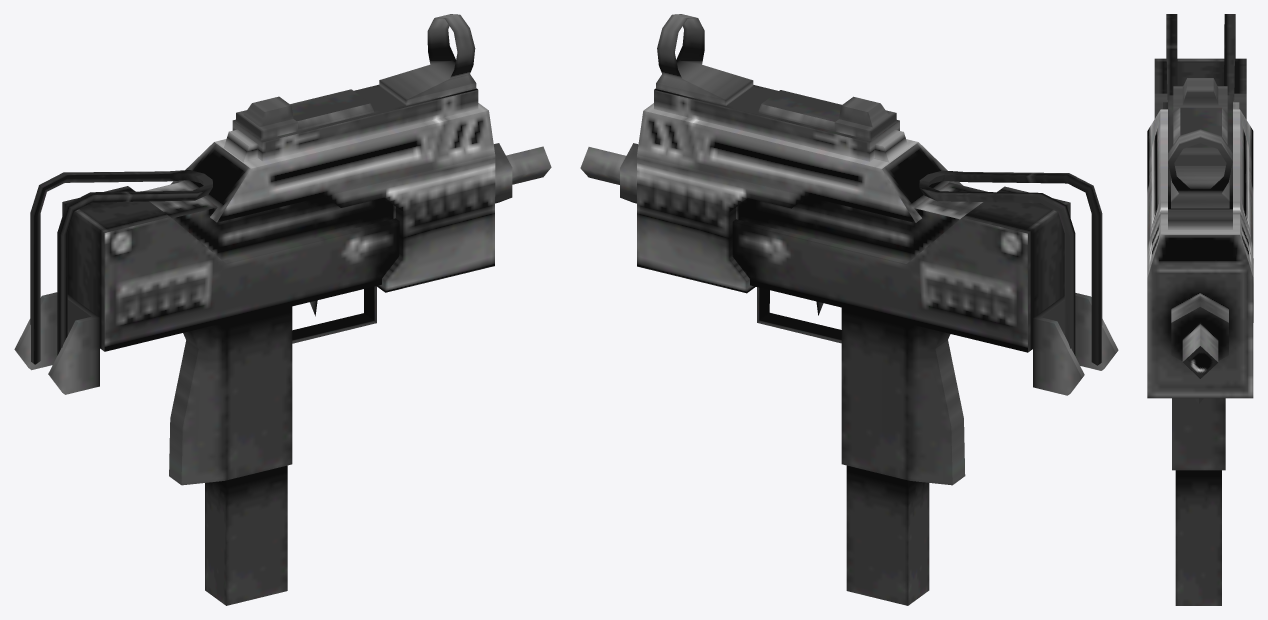
The model's file is ps2_save-icons_black.glb.
The picture shows the model from 3 angles, left to right: view 1: azimuth 30°, elevation 25°; view 2: azimuth 150°, elevation 25°; view 3: azimuth 270°, elevation 25°; orthographic projection. The views are drawn at different scales.
Parts seen in each view (by area): view 1: view.ico; view 2: view.ico; view 3: view.ico.
Part boxes in pixels (x1,y1,x2,y2): view.ico: [14, 14, 551, 605]; view.ico: [580, 14, 1118, 605]; view.ico: [1147, 14, 1253, 605].
Bounding box in the file's own units: 5 × 4.89 × 0.8315.
1 material, 1 textured.
